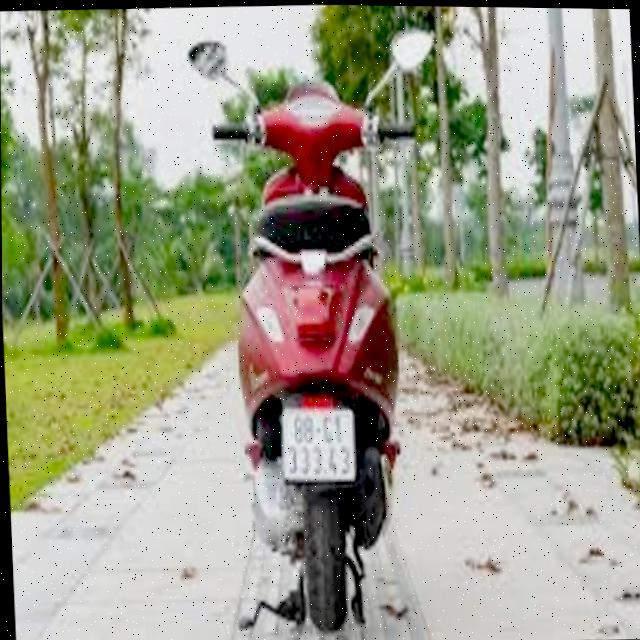motorcycle: (219, 76, 416, 639)
plate: (274, 394, 361, 491)
